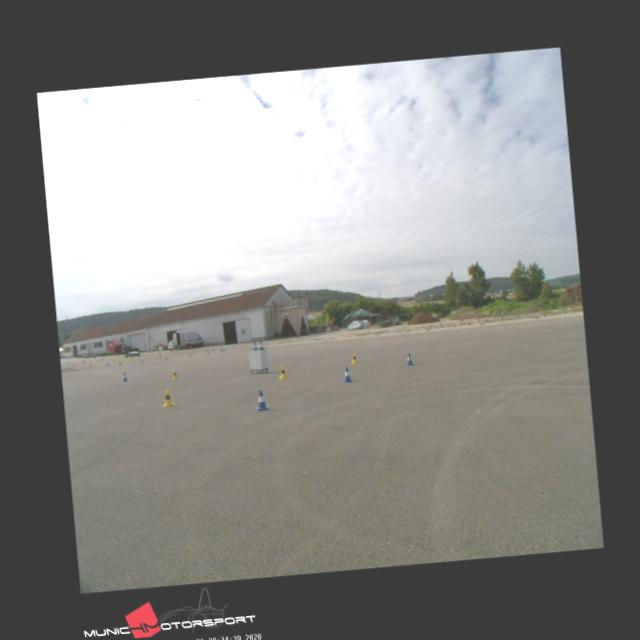blue_cone: (254, 388, 268, 409), (341, 366, 352, 381), (404, 352, 413, 365), (252, 342, 258, 351), (122, 372, 127, 381), (258, 341, 263, 350)
yellow_cone: (160, 388, 174, 406), (277, 364, 287, 378), (350, 352, 358, 362), (171, 368, 178, 379)
